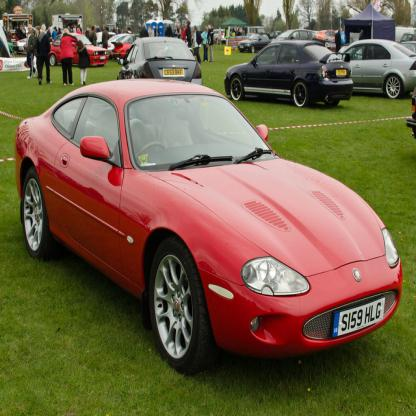Car: (14, 79, 403, 376), (224, 41, 354, 108), (338, 38, 415, 98), (118, 37, 202, 85), (49, 35, 109, 65), (237, 33, 274, 52), (271, 30, 317, 44), (111, 36, 135, 60)
